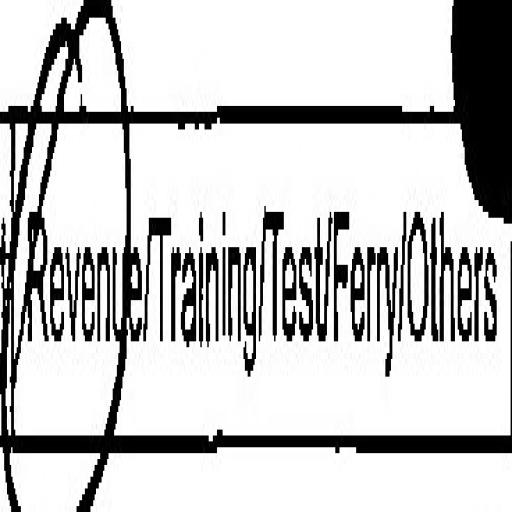check: (8, 16, 150, 512)
